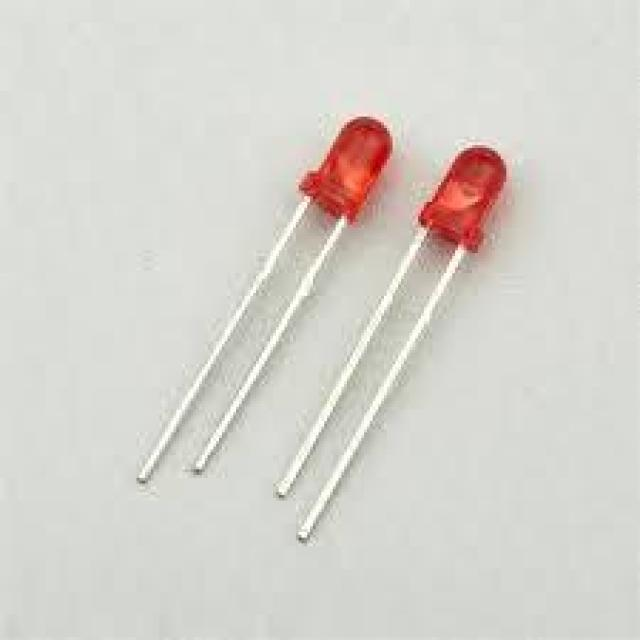Led: (142, 119, 392, 482), (282, 148, 506, 539)
